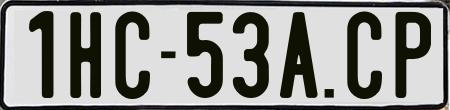1: (26, 11, 53, 101)
3: (231, 12, 273, 104)
5: (186, 9, 224, 100)
A: (279, 9, 322, 96)
C: (112, 11, 150, 105), (347, 11, 382, 104)
H: (69, 10, 104, 98)
P: (395, 10, 436, 102)
